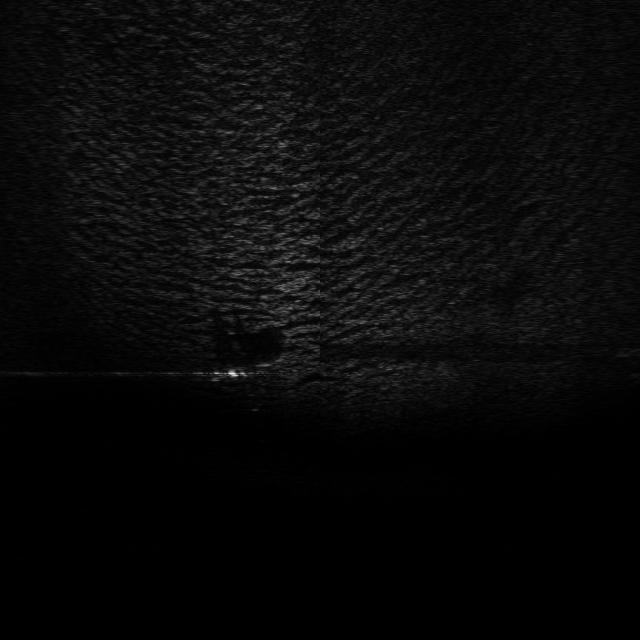plane: (203, 357, 282, 384)
